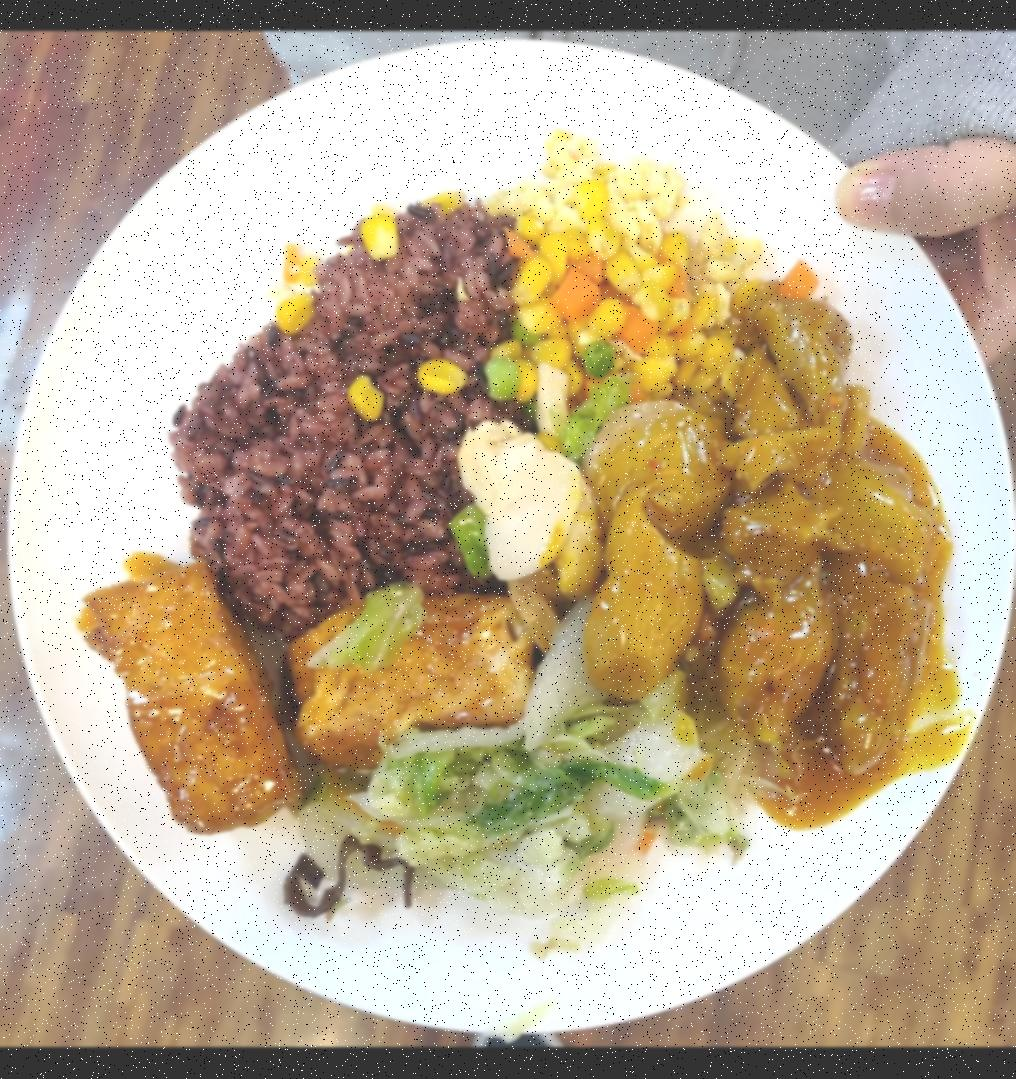curry chicken: (592, 282, 950, 772)
plate: (0, 36, 1016, 1032)
purple rice: (169, 204, 542, 638)
side dish: (76, 555, 530, 838), (359, 703, 747, 920), (513, 142, 749, 438)
